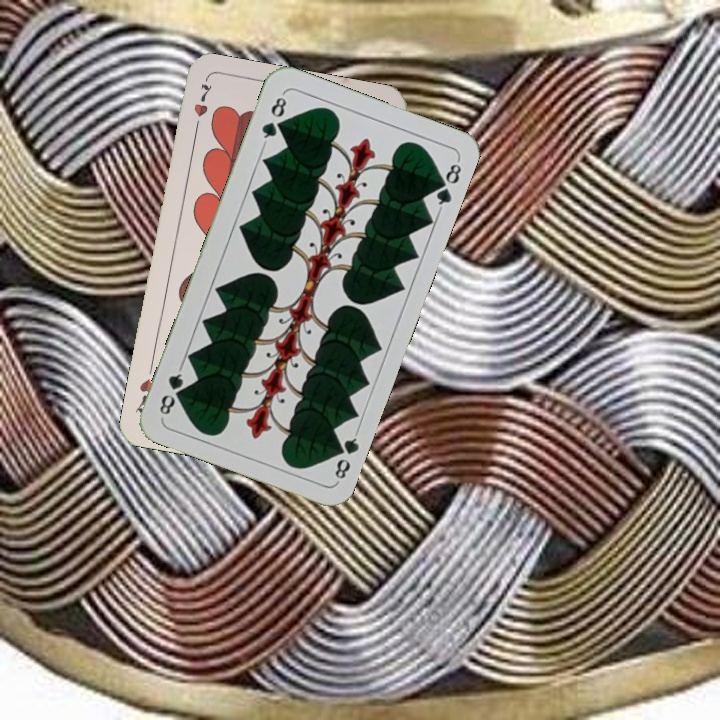G8: (257, 90, 291, 147), (329, 427, 362, 484)
H7: (189, 77, 215, 136)
